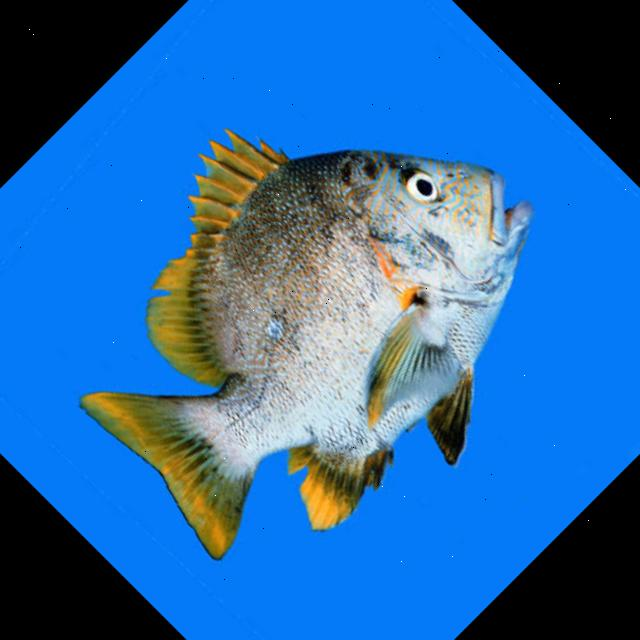ikan: (0, 7, 625, 633)
